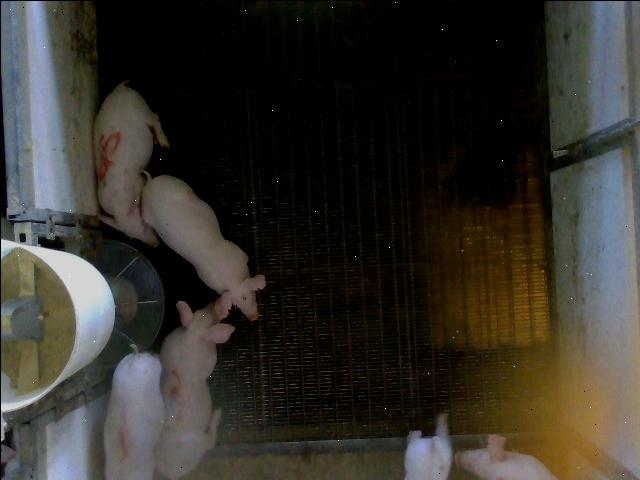pig-1: (102, 350, 164, 479)
pig-3: (154, 300, 234, 478)
pig-5: (94, 80, 169, 246)
